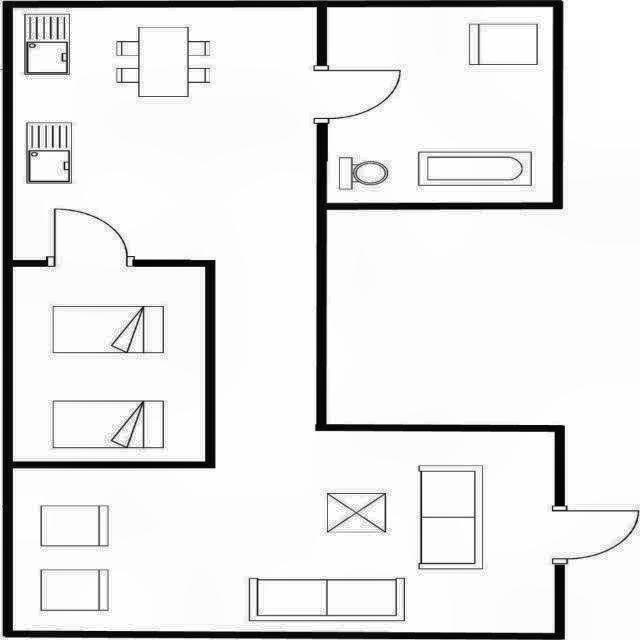room: (12, 7, 555, 633), (327, 7, 553, 203), (13, 267, 205, 461)
